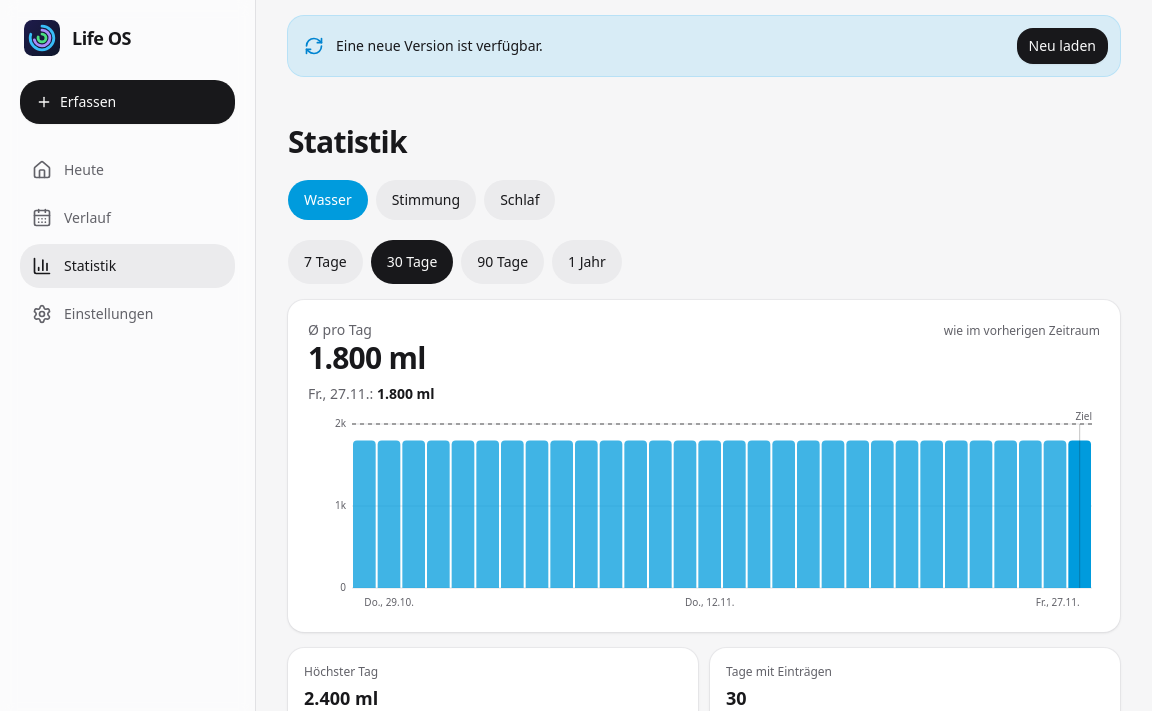
it: statistics page › switches tracker and period
Click the radio button labelled "1 Jahr" at {"x": 587, "y": 262}, box [552,240,622,284]
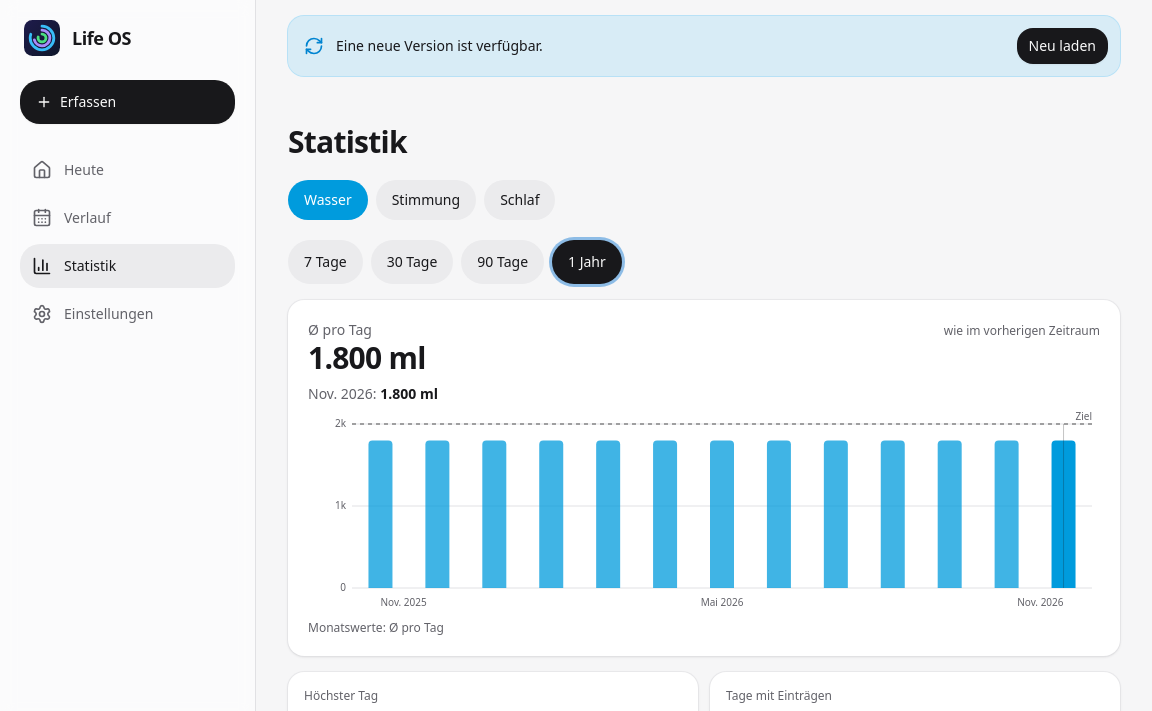
Now the text "Monatswerte: Ø pro Tag" is shown, box [308,619,444,636]
Click the radio button labelled "Stimmung" at {"x": 426, "y": 200}, box [376,180,476,220]
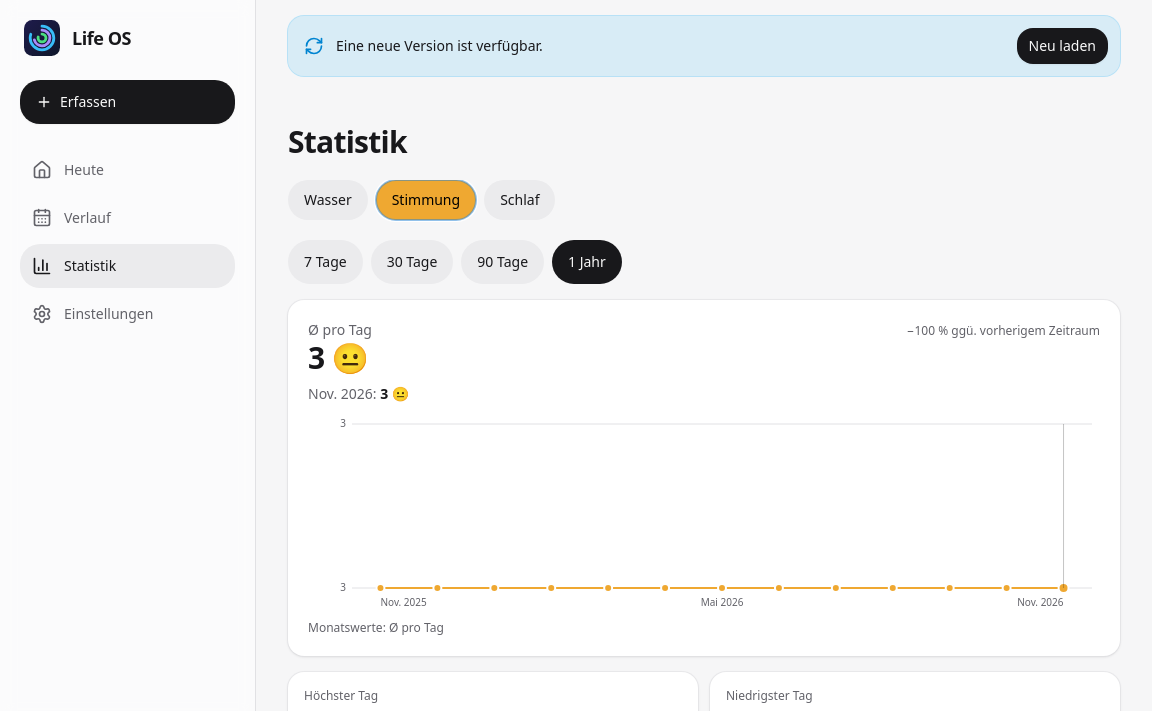
Now the picture named "Stimmung, 1 Jahr" is shown, box [308,412,1100,612]
